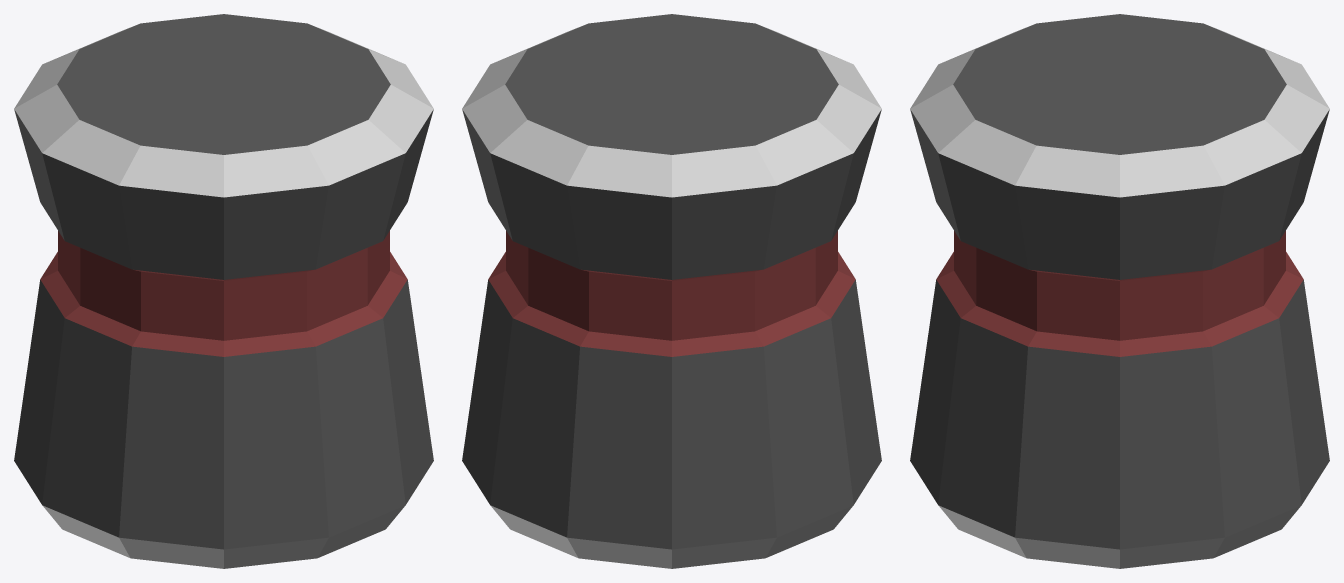
File: BoxCircle.dae
3 views of the same model, side by side, from view 1: azimuth 30°, elevation 25°; view 2: azimuth 150°, elevation 25°; view 3: azimuth 270°, elevation 25° (orthographic).
Visible parts, largest first — view 1: BoxCylindric; view 2: BoxCylindric; view 3: BoxCylindric.
Part boxes in pixels (x1,y1,x2,y2): BoxCylindric: (14,14,433,568); BoxCylindric: (462,14,881,568); BoxCylindric: (910,14,1329,568).
Size of the model in its own units: 1.08 by 1.08 by 1.15.
